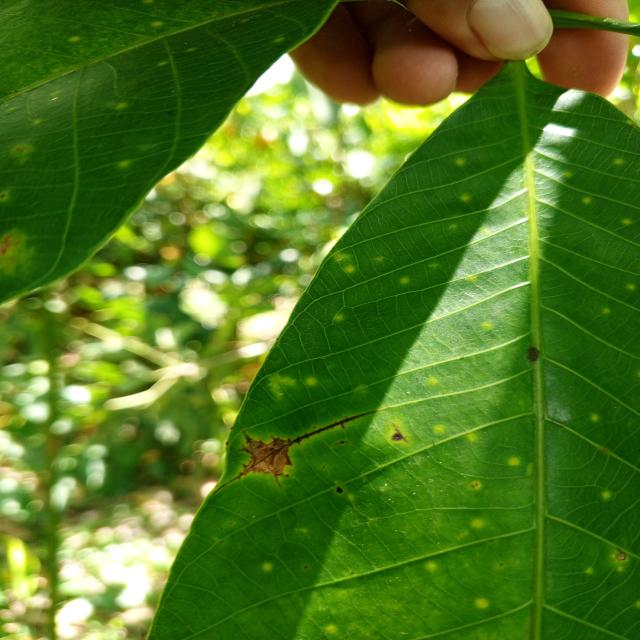Corynespora: (212, 410, 378, 496), (391, 422, 408, 442)
